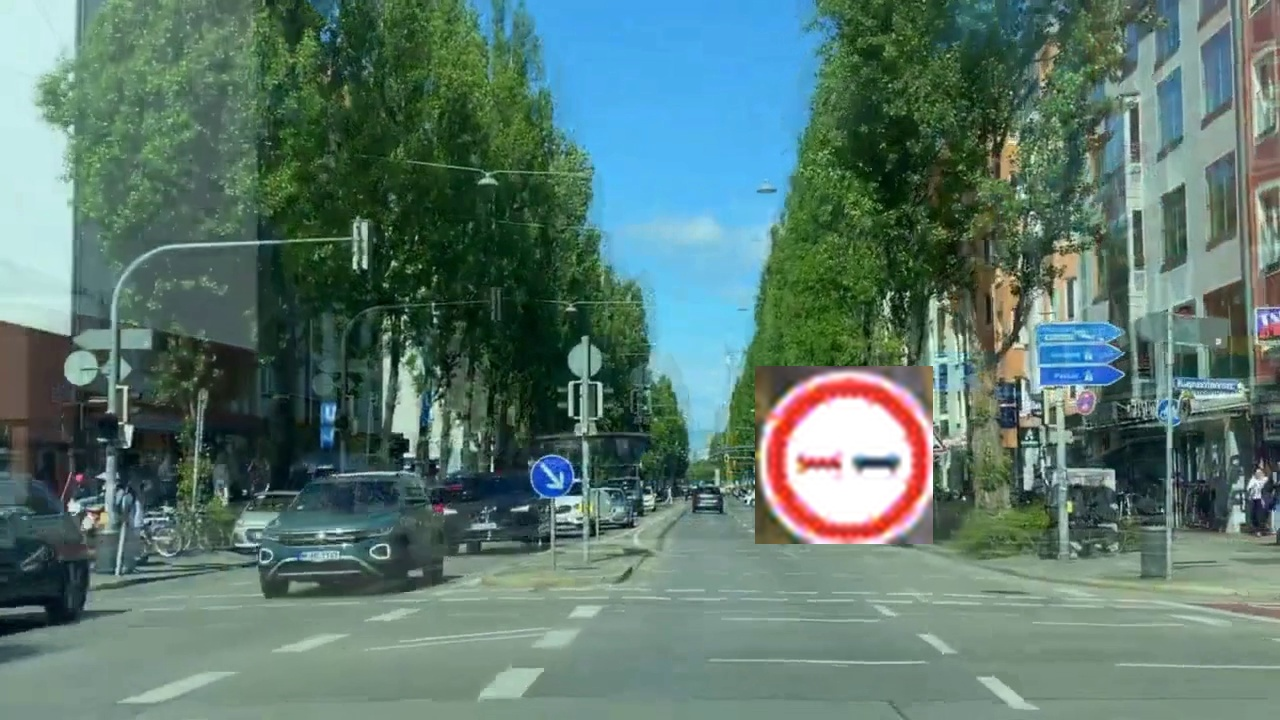No passing: (755, 366, 933, 544)
